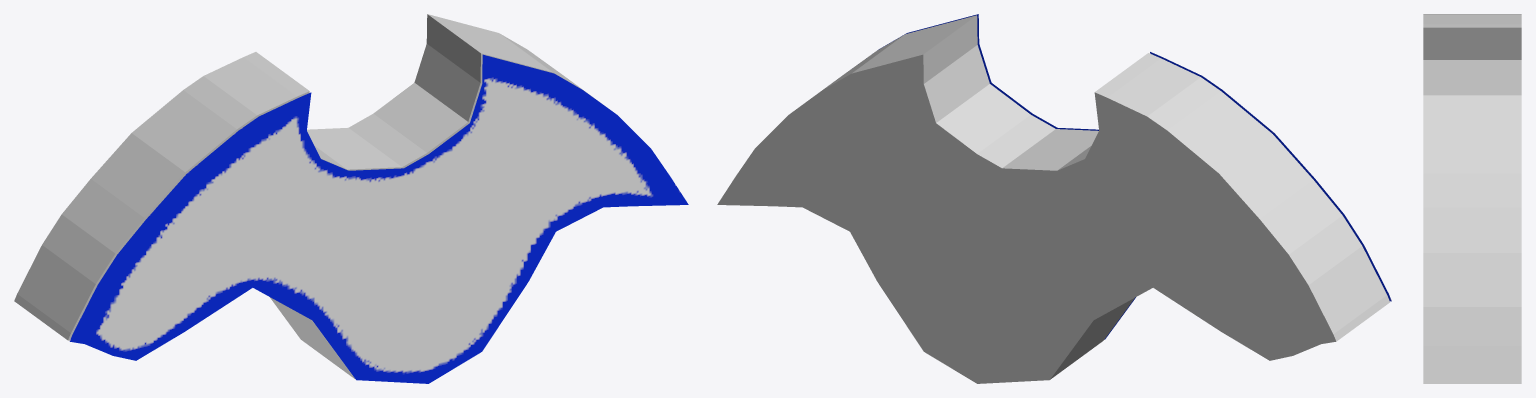
The picture shows the model from 3 angles, left to right: view 1: azimuth 30°, elevation 25°; view 2: azimuth 150°, elevation 25°; view 3: azimuth 270°, elevation 25°; orthographic projection. The views are drawn at different scales.
Visible parts, largest first — view 1: In3_1, In3_0; view 2: In3_0, In3_1; view 3: In3_0.
Boxes of the visible parts, x1=… form: In3_1: x1=69, y1=54, x2=688, y2=383; In3_0: x1=14, y1=14, x2=604, y2=378; In3_0: x1=717, y1=15, x2=1389, y2=383; In3_1: x1=878, y1=14, x2=1391, y2=339; In3_0: x1=1423, y1=14, x2=1521, y2=383.
Bounding box in the file's own units: 3.32 × 1.64 × 0.515.
Materials: 2 (1 with a texture image).
